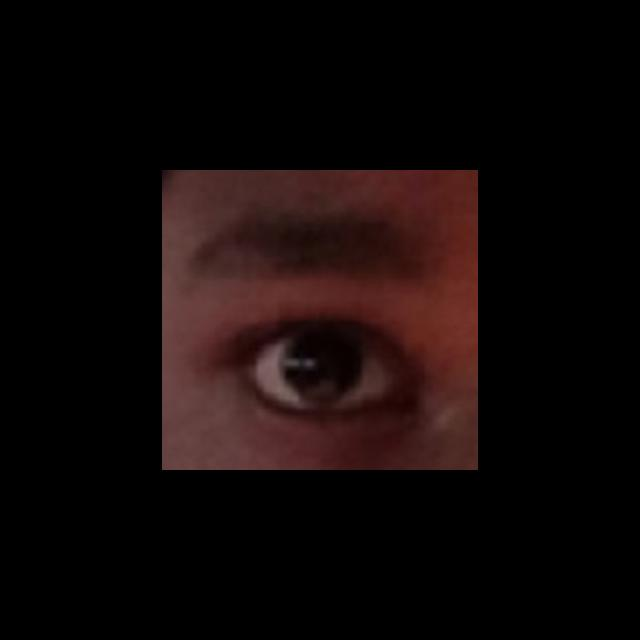eye: (253, 322, 402, 415)
iris: (281, 335, 363, 406)
